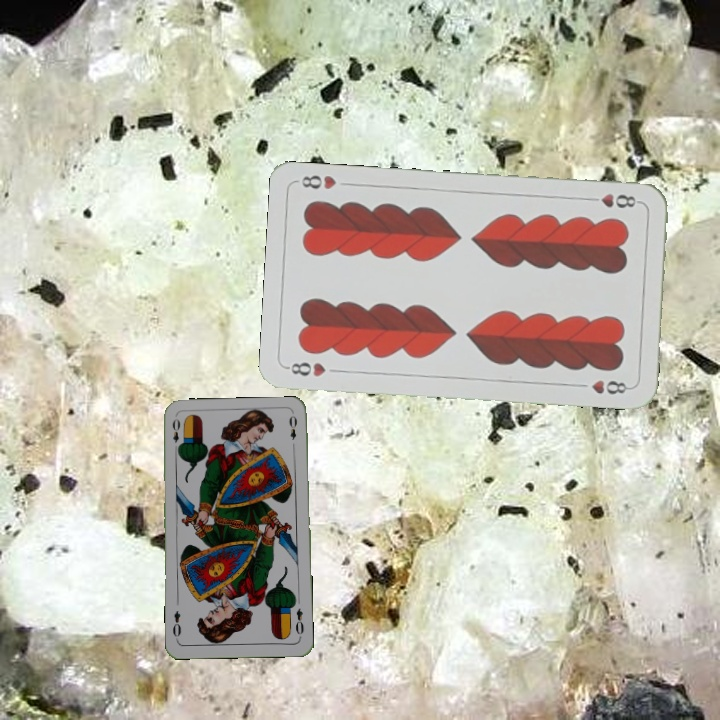EO: (168, 415, 184, 454), (291, 604, 307, 637)
H8: (584, 190, 643, 211), (283, 358, 328, 379)
